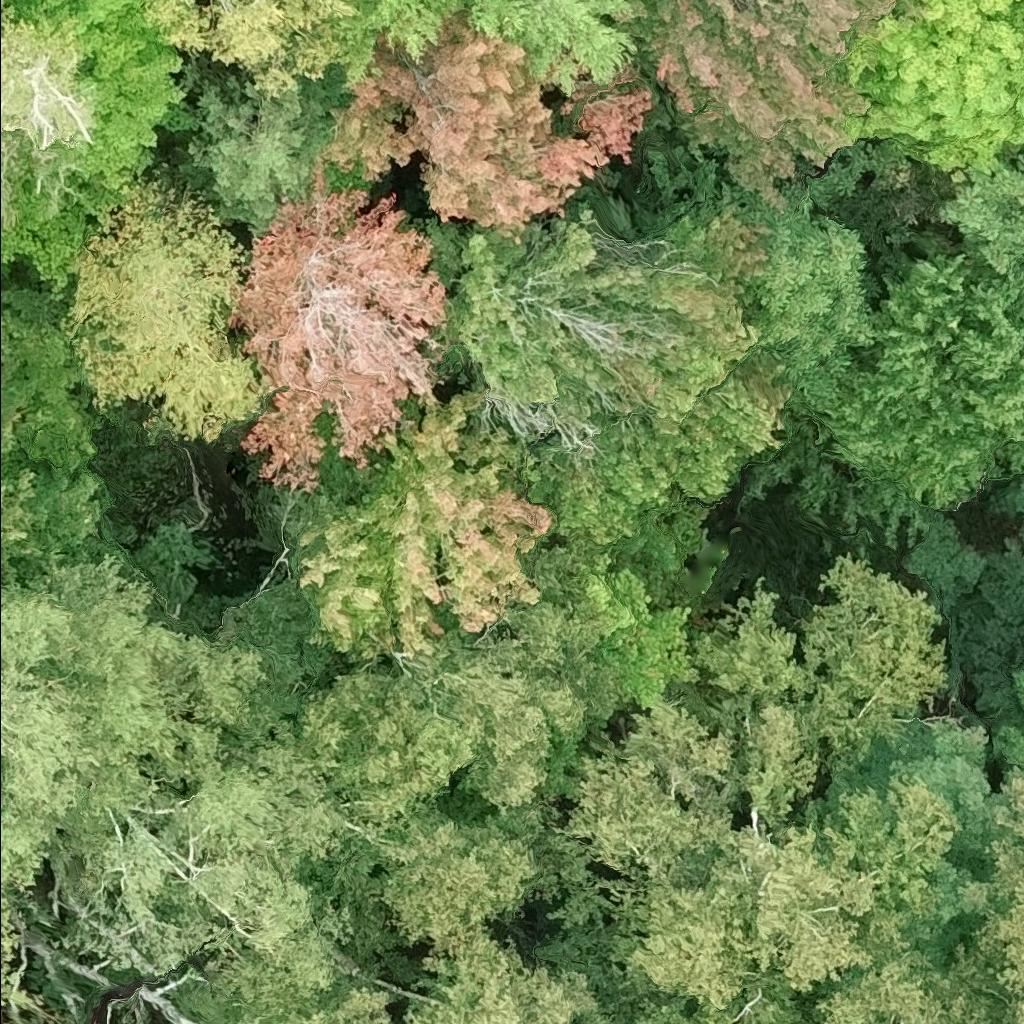crown: (552, 552, 960, 1023), (440, 202, 797, 548), (71, 633, 361, 1010), (290, 550, 625, 831), (318, 9, 652, 245), (225, 156, 449, 503), (282, 392, 558, 671), (0, 546, 214, 897), (0, 0, 202, 297), (631, 0, 899, 212), (63, 176, 271, 442), (811, 251, 1023, 510), (729, 173, 882, 403), (848, 0, 1023, 186), (348, 798, 547, 950), (333, 0, 643, 94), (176, 69, 348, 231), (563, 537, 698, 707), (0, 0, 97, 232), (397, 921, 615, 1023), (148, 0, 360, 97), (946, 764, 1023, 1023), (805, 947, 996, 1023), (931, 151, 1023, 272), (174, 974, 396, 1023), (0, 847, 51, 1004), (891, 0, 1021, 37), (0, 346, 7, 397), (0, 1017, 1, 1023)
